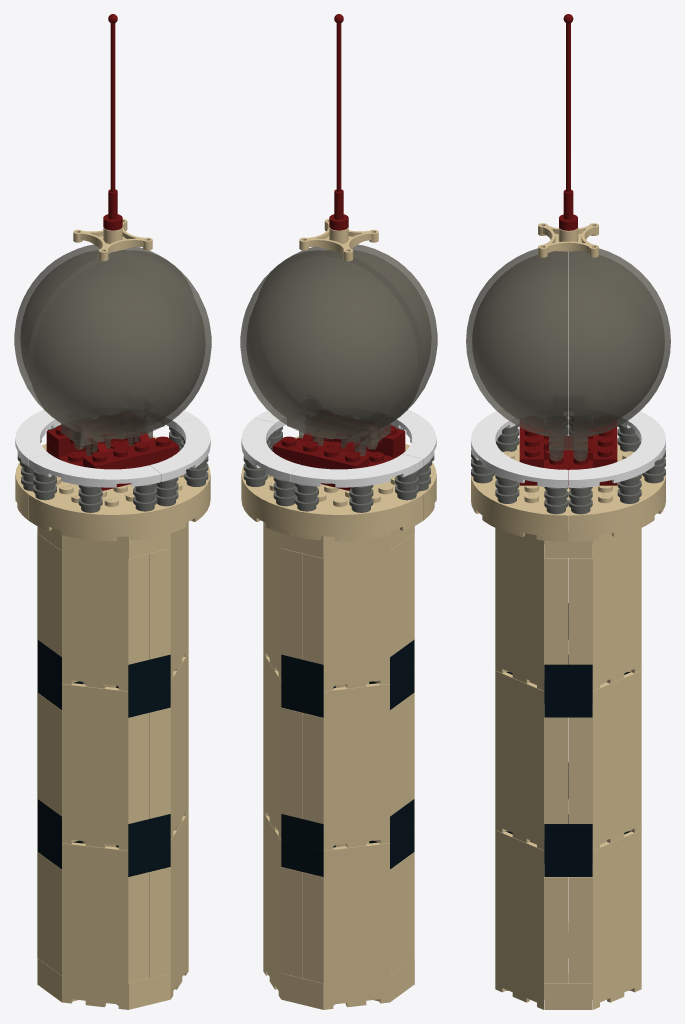
The model's file is Lighthouse.dae.
3 views of the same model, side by side, from view 1: azimuth 30°, elevation 25°; view 2: azimuth 150°, elevation 25°; view 3: azimuth 270°, elevation 25° (orthographic).
Visible parts, largest first — view 1: Inner-Node-Lighthouse_dot_io-70, Inner-Node-Lighthouse_dot_io-72, Inner-Node-Lighthouse_dot_io-1, Inner-Node-Lighthouse_dot_io-6, Inner-Node-Lighthouse_dot_io-11, Inner-Node-Lighthouse_dot_io-39, Inner-Node-Lighthouse_dot_io-5, Inner-Node-Lighthouse_dot_io-0, Inner-Node-Lighthouse_dot_io-10, Inner-Node-Lighthouse_dot_io-68, Inner-Node-Lighthouse_dot_io-71, Inner-Node-Lighthouse_dot_io-65 (+20 smaller); view 2: Inner-Node-Lighthouse_dot_io-72, Inner-Node-Lighthouse_dot_io-70, Inner-Node-Lighthouse_dot_io-2, Inner-Node-Lighthouse_dot_io-7, Inner-Node-Lighthouse_dot_io-12, Inner-Node-Lighthouse_dot_io-40, Inner-Node-Lighthouse_dot_io-8, Inner-Node-Lighthouse_dot_io-3, Inner-Node-Lighthouse_dot_io-13, Inner-Node-Lighthouse_dot_io-67, Inner-Node-Lighthouse_dot_io-76, Inner-Node-Lighthouse_dot_io-66 (+20 smaller); view 3: Inner-Node-Lighthouse_dot_io-70, Inner-Node-Lighthouse_dot_io-72, Inner-Node-Lighthouse_dot_io-5, Inner-Node-Lighthouse_dot_io-8, Inner-Node-Lighthouse_dot_io-0, Inner-Node-Lighthouse_dot_io-3, Inner-Node-Lighthouse_dot_io-10, Inner-Node-Lighthouse_dot_io-13, Inner-Node-Lighthouse_dot_io-39, Inner-Node-Lighthouse_dot_io-40, Inner-Node-Lighthouse_dot_io-65, Inner-Node-Lighthouse_dot_io-66 (+13 smaller).
Boxes of the visible parts, box(x1,y1,x2,y2) form: Inner-Node-Lighthouse_dot_io-70: box(29, 250, 211, 456); Inner-Node-Lighthouse_dot_io-72: box(14, 244, 192, 449); Inner-Node-Lighthouse_dot_io-1: box(49, 842, 149, 1009); Inner-Node-Lighthouse_dot_io-6: box(49, 683, 149, 850); Inner-Node-Lighthouse_dot_io-11: box(49, 535, 149, 691); Inner-Node-Lighthouse_dot_io-39: box(28, 466, 210, 541); Inner-Node-Lighthouse_dot_io-5: box(149, 653, 188, 839); Inner-Node-Lighthouse_dot_io-0: box(149, 813, 188, 998); Inner-Node-Lighthouse_dot_io-10: box(149, 522, 188, 680); Inner-Node-Lighthouse_dot_io-68: box(28, 454, 161, 487); Inner-Node-Lighthouse_dot_io-71: box(83, 432, 179, 469); Inner-Node-Lighthouse_dot_io-65: box(150, 418, 210, 481); Inner-Node-Lighthouse_dot_io-72: box(240, 250, 422, 456); Inner-Node-Lighthouse_dot_io-70: box(259, 244, 437, 449); Inner-Node-Lighthouse_dot_io-2: box(302, 842, 402, 1009); Inner-Node-Lighthouse_dot_io-7: box(302, 683, 402, 850); Inner-Node-Lighthouse_dot_io-12: box(302, 535, 402, 691); Inner-Node-Lighthouse_dot_io-40: box(241, 466, 423, 541); Inner-Node-Lighthouse_dot_io-8: box(263, 653, 302, 839); Inner-Node-Lighthouse_dot_io-3: box(263, 813, 302, 998); Inner-Node-Lighthouse_dot_io-13: box(263, 522, 302, 680); Inner-Node-Lighthouse_dot_io-67: box(290, 454, 423, 487); Inner-Node-Lighthouse_dot_io-76: box(272, 432, 368, 469); Inner-Node-Lighthouse_dot_io-66: box(241, 418, 301, 481); Inner-Node-Lighthouse_dot_io-70: box(466, 248, 568, 461); Inner-Node-Lighthouse_dot_io-72: box(568, 248, 670, 461); Inner-Node-Lighthouse_dot_io-5: box(495, 670, 568, 850); Inner-Node-Lighthouse_dot_io-8: box(568, 670, 641, 850); Inner-Node-Lighthouse_dot_io-0: box(495, 830, 568, 1009); Inner-Node-Lighthouse_dot_io-3: box(568, 830, 641, 1009); Inner-Node-Lighthouse_dot_io-10: box(495, 528, 568, 690); Inner-Node-Lighthouse_dot_io-13: box(568, 528, 641, 690); Inner-Node-Lighthouse_dot_io-39: box(471, 434, 568, 541); Inner-Node-Lighthouse_dot_io-40: box(568, 434, 665, 541); Inner-Node-Lighthouse_dot_io-65: box(471, 439, 568, 488); Inner-Node-Lighthouse_dot_io-66: box(568, 439, 665, 488).
Bounding box in the file's own units: 160 × 871 × 168.
